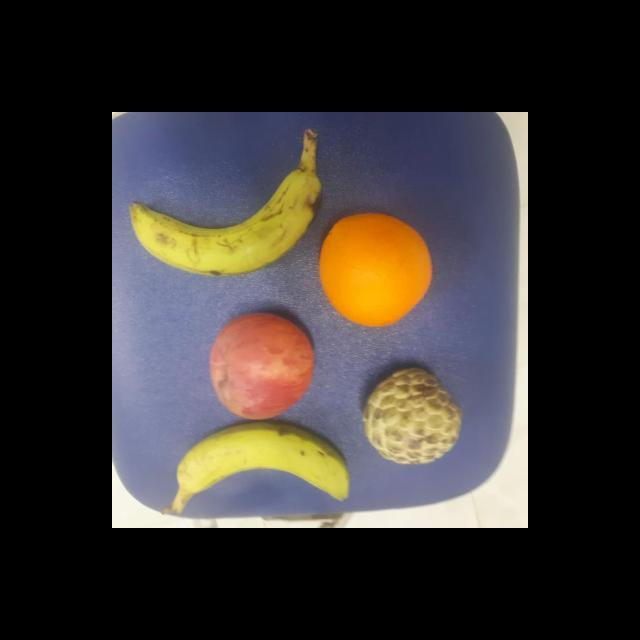Sakya fruit: (359, 364, 466, 468)
apple: (206, 312, 318, 423)
banana: (128, 166, 322, 277), (170, 423, 352, 508)
orange: (315, 213, 437, 328)
